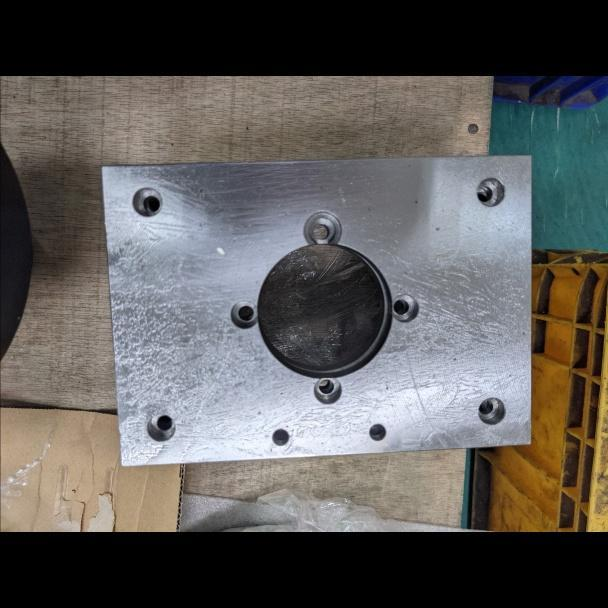hole: (299, 204, 346, 253), (471, 169, 510, 215), (381, 287, 422, 326), (140, 407, 178, 449), (307, 373, 350, 410), (223, 297, 264, 335), (128, 183, 167, 222), (475, 393, 509, 431), (266, 422, 294, 453), (365, 417, 390, 446)
